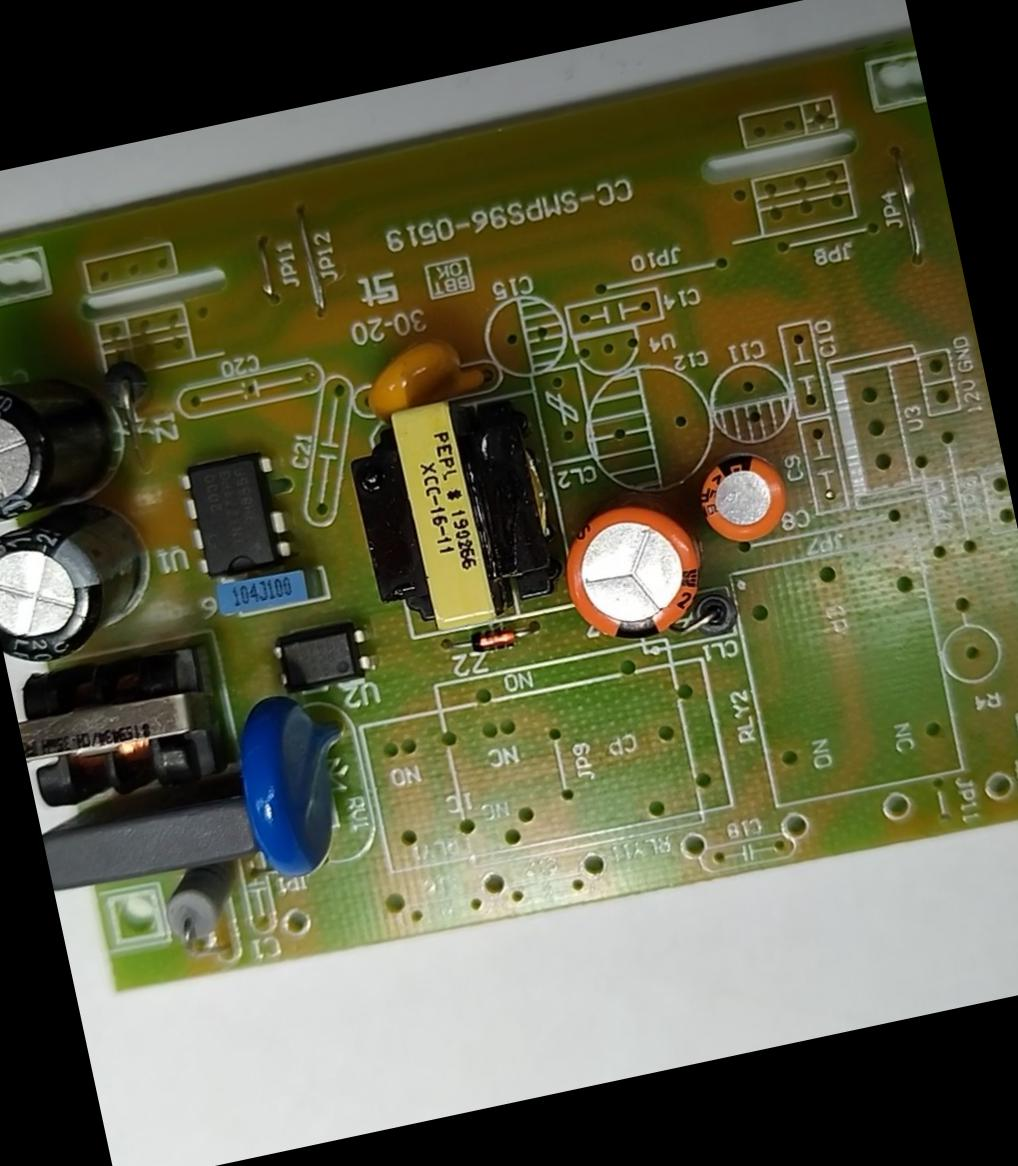Cap1: (548, 492, 720, 664)
Cap2: (689, 445, 798, 553)
Cap3: (0, 502, 161, 672)
Cap4: (0, 362, 131, 531)
MOSFET: (170, 445, 302, 586)
Mov: (224, 684, 370, 890)
Resistor: (152, 860, 252, 952)
Transformer: (332, 381, 574, 657), (11, 643, 246, 834)
